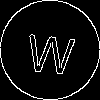W: (25, 25, 77, 75)
